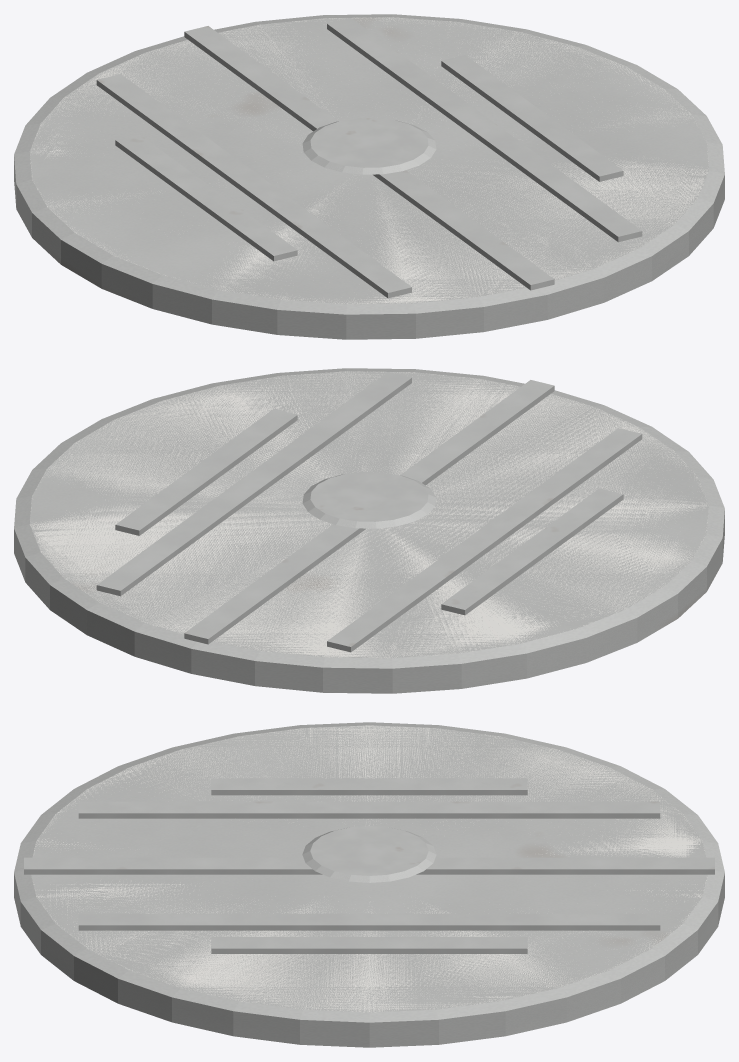
File: turn.gltf
The picture shows the model from 3 angles, top to bottom: view 1: azimuth 30°, elevation 25°; view 2: azimuth 150°, elevation 25°; view 3: azimuth 270°, elevation 25°; orthographic projection.
Parts seen in each view (by area): view 1: jx_turn; view 2: jx_turn; view 3: jx_turn.
Part boxes in pixels (x1,y1,x2,y2): jx_turn: (14, 14, 724, 339); jx_turn: (14, 368, 724, 693); jx_turn: (14, 722, 724, 1047).
Bounding box in the file's own units: 3.6 × 0.26 × 3.6.
2 materials, 2 textured.
